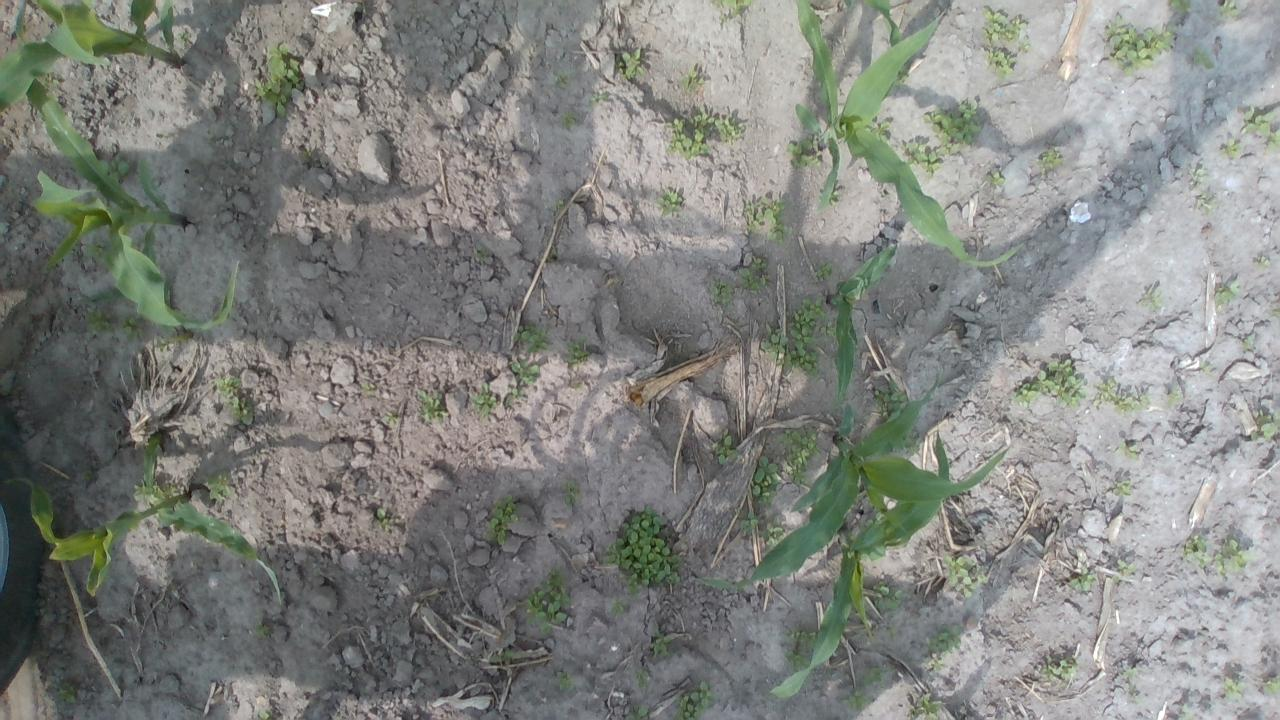Maize: (790, 0, 1024, 268), (16, 70, 244, 336), (693, 364, 944, 598), (770, 426, 949, 698), (12, 432, 284, 606), (0, 0, 183, 112), (826, 241, 898, 406), (842, 0, 902, 49)
Weeds: (602, 506, 682, 598), (1103, 12, 1175, 77), (783, 298, 837, 378), (254, 44, 305, 114), (525, 566, 575, 635), (923, 100, 980, 154), (664, 104, 714, 160), (778, 426, 824, 486), (1038, 358, 1087, 410), (1094, 377, 1151, 416), (212, 377, 253, 430), (942, 555, 989, 600), (979, 5, 1028, 44), (484, 493, 520, 546), (744, 198, 784, 243), (673, 679, 715, 720), (1243, 106, 1280, 150), (749, 456, 782, 505), (902, 141, 943, 178), (873, 380, 908, 421), (734, 255, 770, 294), (786, 134, 822, 168), (924, 624, 961, 656), (416, 388, 448, 424), (1216, 538, 1246, 576), (708, 0, 753, 25), (512, 324, 551, 352), (614, 47, 646, 81), (983, 50, 1015, 84), (872, 580, 906, 611), (760, 324, 788, 360), (1250, 409, 1280, 442), (714, 114, 746, 144), (98, 157, 132, 185), (1121, 666, 1146, 704), (471, 382, 498, 416), (906, 696, 944, 720), (1042, 656, 1078, 681), (206, 470, 233, 503), (782, 624, 818, 648), (1183, 534, 1208, 568), (710, 436, 738, 466), (655, 190, 684, 218), (512, 358, 540, 386), (564, 334, 588, 366), (763, 514, 784, 550), (840, 688, 870, 713), (896, 430, 924, 456), (709, 277, 734, 305), (1037, 147, 1065, 172), (118, 316, 148, 338), (85, 236, 108, 264), (1069, 568, 1095, 592), (738, 510, 762, 536), (1195, 188, 1219, 214), (785, 650, 811, 674), (88, 308, 111, 334), (1012, 381, 1038, 404), (1190, 47, 1216, 70), (862, 664, 886, 688), (1217, 137, 1242, 160), (681, 68, 704, 91), (1222, 677, 1246, 699), (1213, 284, 1237, 306), (1114, 559, 1136, 582), (56, 682, 78, 705), (1141, 290, 1164, 312), (869, 119, 889, 144), (653, 632, 672, 658), (560, 478, 578, 505), (813, 255, 832, 280), (156, 482, 182, 499), (1188, 164, 1208, 184), (558, 670, 578, 690), (626, 704, 650, 720), (630, 671, 650, 689), (1220, 0, 1240, 18), (1170, 0, 1193, 15), (1176, 701, 1194, 720), (104, 288, 125, 304), (1264, 677, 1280, 698), (1120, 441, 1138, 459), (560, 111, 578, 129), (489, 650, 512, 664), (157, 336, 177, 352), (1113, 479, 1131, 496), (1166, 392, 1184, 409), (608, 599, 625, 617), (867, 546, 886, 562), (508, 386, 528, 401), (376, 507, 390, 528), (894, 66, 910, 84), (174, 30, 192, 46), (986, 172, 1004, 188), (864, 512, 884, 526), (553, 71, 569, 88), (1256, 255, 1272, 271), (884, 624, 899, 640), (80, 464, 95, 480), (382, 410, 398, 425), (253, 624, 270, 638), (827, 190, 841, 206), (929, 658, 944, 672), (40, 78, 60, 88), (133, 483, 144, 500), (592, 92, 608, 103), (258, 709, 274, 720), (1270, 303, 1280, 320), (1018, 39, 1032, 51), (360, 382, 376, 392), (1242, 335, 1253, 349), (1200, 362, 1212, 373), (504, 399, 514, 408), (776, 359, 784, 368)
